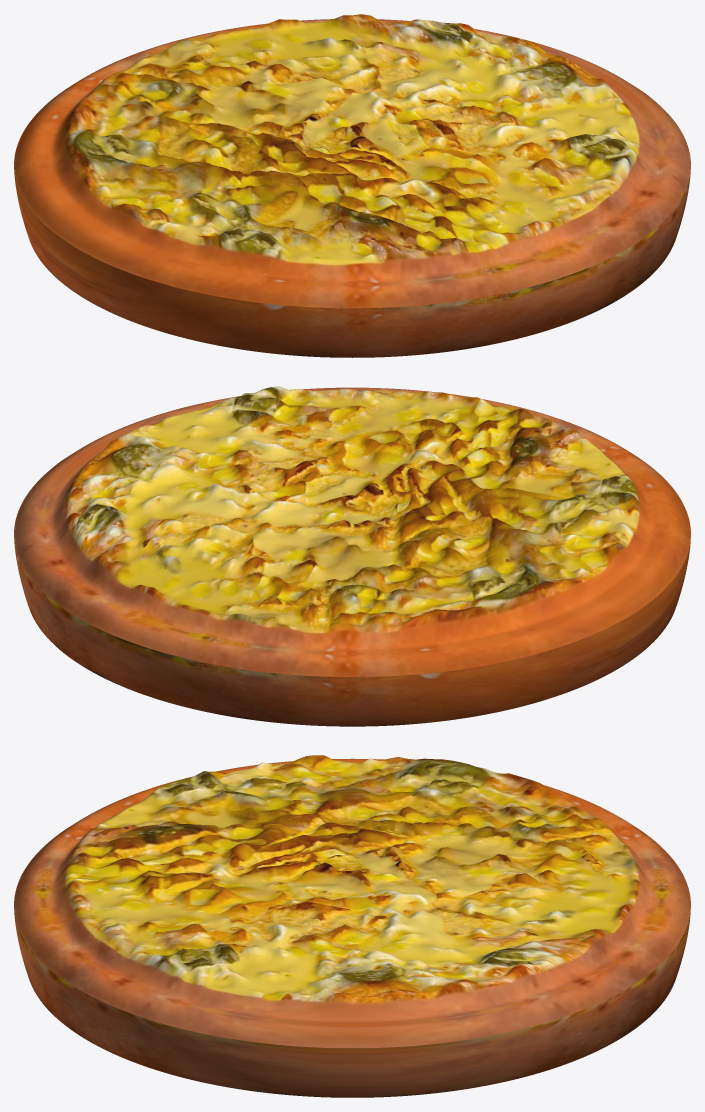
File: mexicana.glb
The picture shows the model from 3 angles, top to bottom: view 1: azimuth 30°, elevation 25°; view 2: azimuth 150°, elevation 25°; view 3: azimuth 270°, elevation 25°; orthographic projection.
Visible parts, largest first — view 1: Mexicana; view 2: Mexicana; view 3: Mexicana.
Part boxes in pixels (x1=…): Mexicana: x1=14, y1=14, x2=690, y2=357; Mexicana: x1=14, y1=386, x2=690, y2=726; Mexicana: x1=14, y1=755, x2=690, y2=1097.
Size of the model in its own units: 0.36 by 0.0548 by 0.36.
2 materials, 2 textured.
